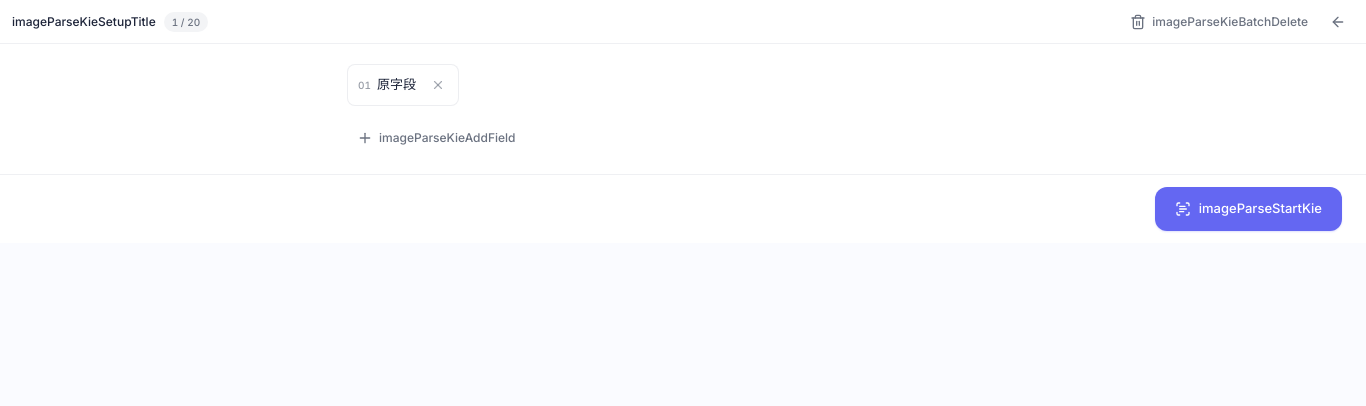
字段配置提交与返回 › 尚未加入的重复输入禁用开始，防止忽略无效草稿后提交旧字段
Click the button "imageParseKieAddField": (436, 138) [347,122,526,154]
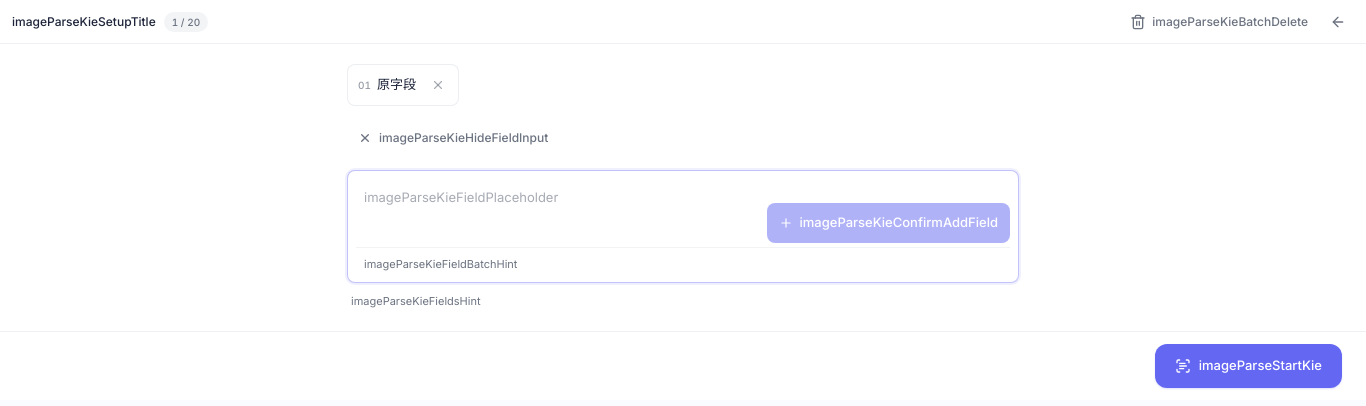
In the text box named "imageParseKieFieldInputLabel": (558, 211) [356,179,760,243], type "原字段"
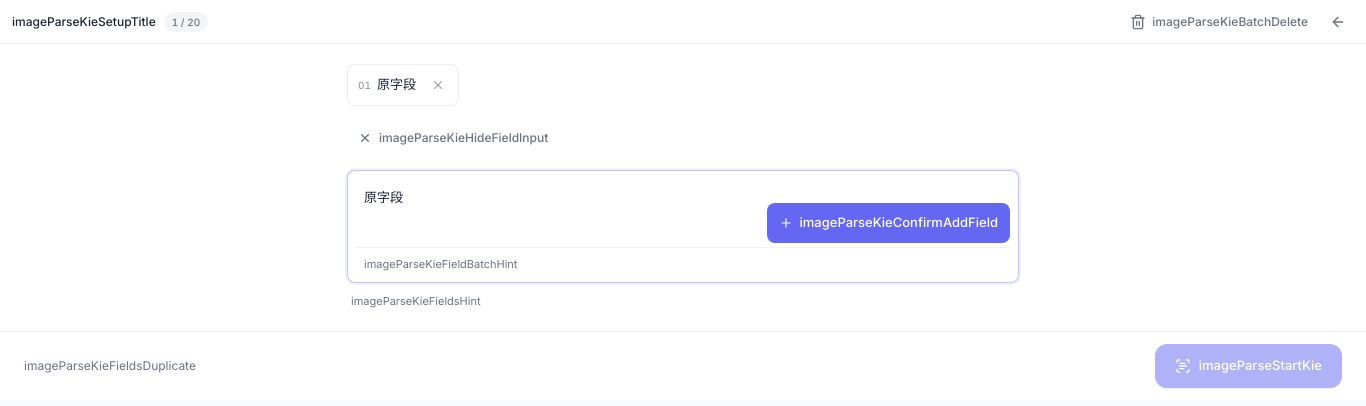
Check: the button "imageParseStartKie" is disabled, box [1155,344,1342,388]
